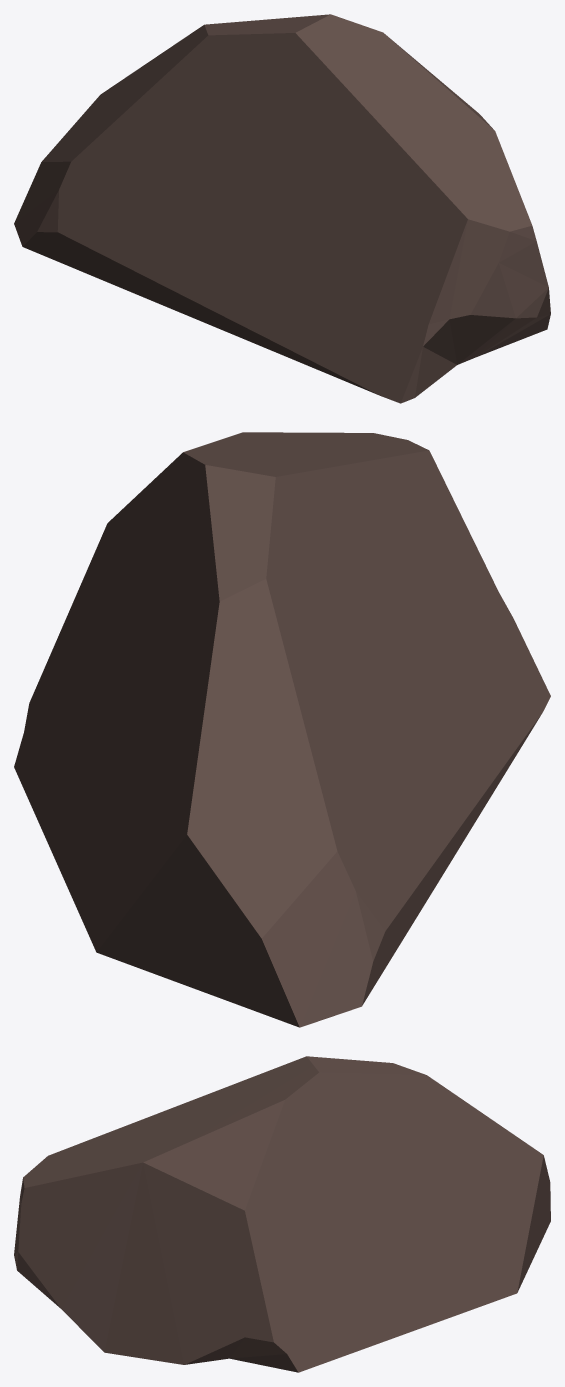
The model's file is Cliff shard 1.fbx.
The picture shows the model from 3 angles, top to bottom: view 1: azimuth 30°, elevation 25°; view 2: azimuth 150°, elevation 25°; view 3: azimuth 270°, elevation 25°; orthographic projection. The views are drawn at different scales.
Visible parts, largest first — view 1: Cliff shard 1; view 2: Cliff shard 1; view 3: Cliff shard 1.
Part boxes in pixels (x1,y1,x2,y2): Cliff shard 1: [14, 14, 550, 403]; Cliff shard 1: [14, 432, 550, 1027]; Cliff shard 1: [14, 1056, 550, 1372].
Size of the model in its own units: 1.05 by 0.7175 by 1.49.
